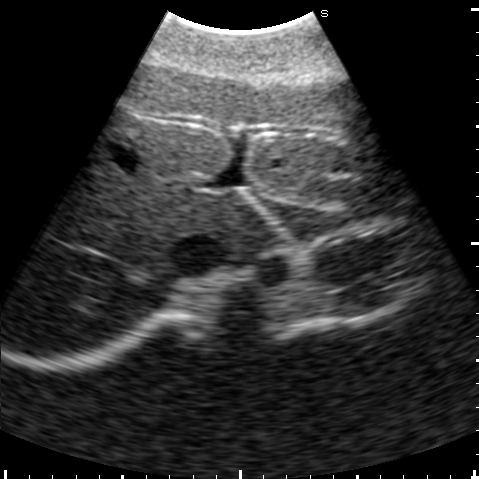IVC: (168, 232, 230, 277)
S1: (227, 205, 277, 253)
S2: (246, 178, 415, 242)
S3: (230, 75, 403, 204)
